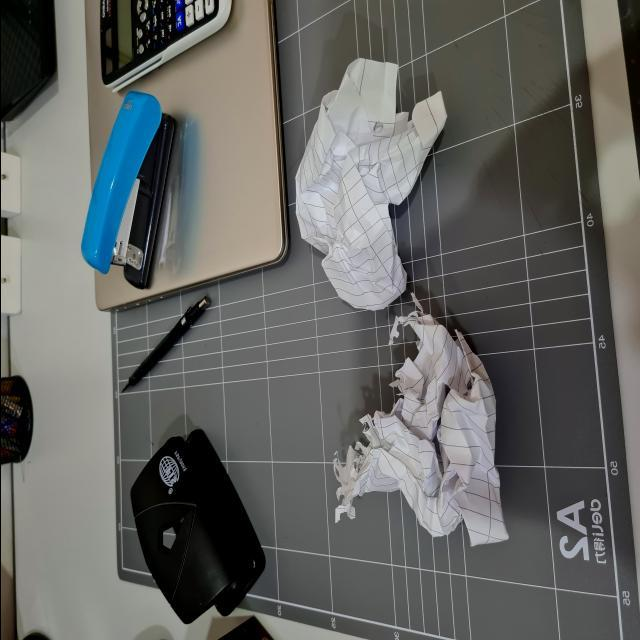Paper: (253, 51, 448, 313), (330, 296, 501, 568)
